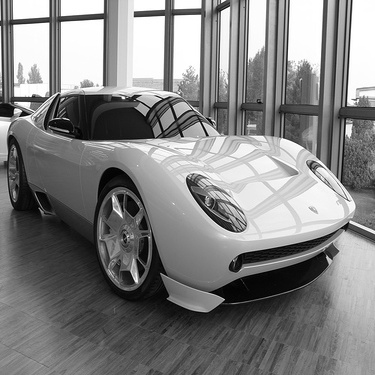car: (1, 67, 356, 306)
